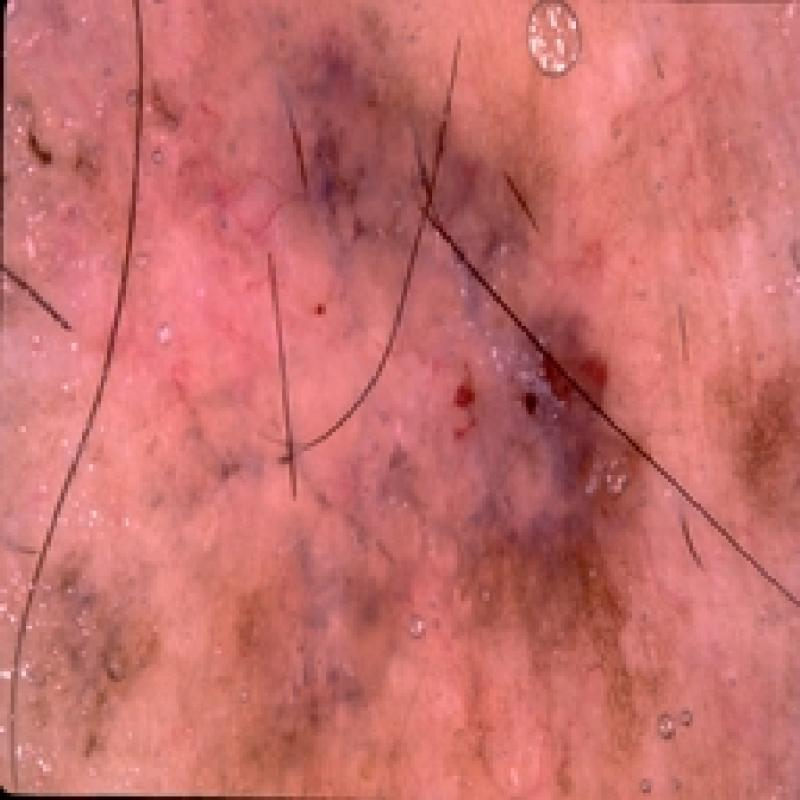malignant: (221, 77, 667, 682)
